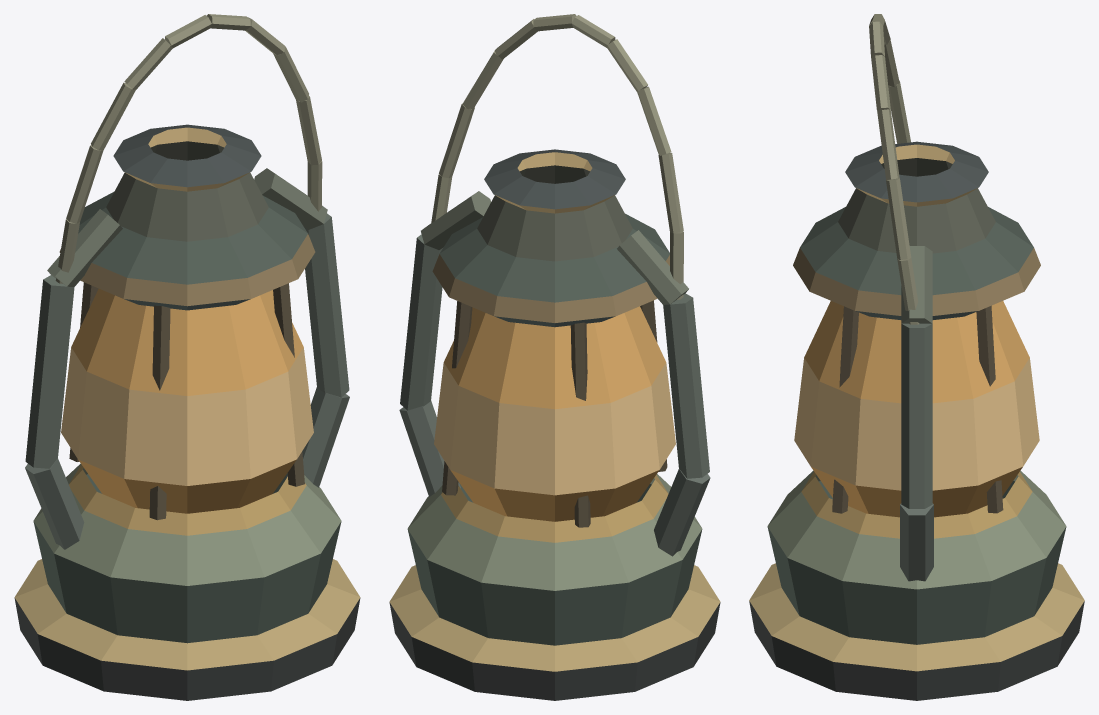
Rendered from StormLantern.glb.
3 views of the same model, side by side, from view 1: azimuth 30°, elevation 25°; view 2: azimuth 150°, elevation 25°; view 3: azimuth 270°, elevation 25° (orthographic). The views are drawn at different scales.
Parts seen in each view (by area): view 1: StormLantern; view 2: StormLantern; view 3: StormLantern.
Boxes of the visible parts, x1,y1,x2,y2 form: StormLantern: (14, 14, 360, 700); StormLantern: (389, 14, 720, 700); StormLantern: (749, 14, 1084, 700).
Bounding box in the file's own units: 0.2514 × 0.4781 × 0.238.
